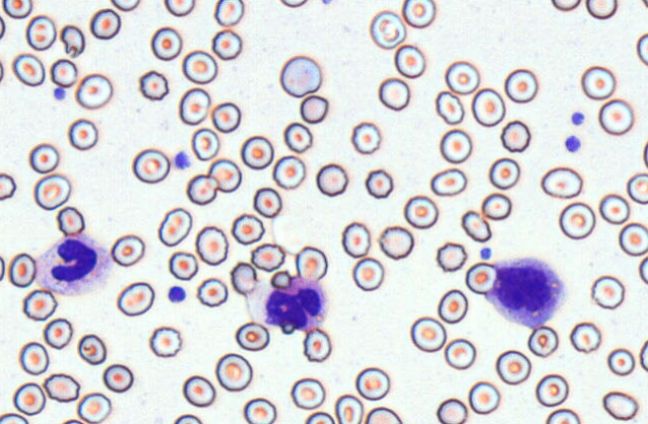GRAN: (243, 277, 330, 332), (36, 234, 114, 294)
MONO: (487, 258, 565, 331)
PLT: (173, 150, 192, 171), (167, 286, 188, 304), (563, 135, 582, 154), (569, 110, 588, 126), (53, 87, 68, 101), (478, 247, 493, 261)
RBC: (279, 54, 322, 97), (369, 9, 406, 49), (215, 352, 252, 391), (33, 173, 71, 210), (558, 201, 595, 239), (75, 73, 113, 109), (157, 207, 192, 246), (471, 87, 505, 127), (540, 166, 582, 198), (598, 98, 634, 135), (116, 281, 154, 316), (132, 148, 170, 183), (195, 225, 228, 265), (495, 349, 531, 385), (410, 316, 446, 352), (403, 194, 438, 229), (182, 49, 217, 84), (378, 225, 414, 259), (178, 87, 210, 125), (355, 366, 390, 400), (504, 68, 538, 103), (581, 65, 615, 100), (444, 60, 479, 94), (535, 373, 569, 407), (240, 135, 274, 169), (590, 275, 624, 309), (22, 288, 57, 321), (439, 128, 472, 163), (272, 154, 305, 189), (295, 245, 327, 281), (12, 382, 46, 415), (208, 158, 241, 192), (315, 162, 348, 196), (12, 52, 45, 86), (352, 256, 384, 291), (290, 377, 325, 409), (110, 234, 145, 266), (25, 14, 56, 50), (468, 380, 500, 414), (150, 26, 182, 60), (76, 392, 111, 423), (437, 288, 468, 323), (394, 43, 425, 78), (341, 221, 371, 257), (602, 390, 638, 420), (43, 373, 80, 402), (430, 167, 467, 196), (182, 375, 215, 407), (231, 213, 264, 245), (465, 261, 497, 294), (378, 77, 410, 110), (18, 341, 49, 375), (569, 321, 601, 353), (444, 338, 476, 370), (488, 157, 520, 189), (149, 326, 182, 357), (460, 209, 491, 242), (235, 321, 269, 351), (618, 222, 648, 256), (302, 327, 331, 362), (250, 242, 285, 271), (186, 174, 218, 205), (435, 241, 467, 272), (211, 28, 242, 60), (89, 8, 121, 39), (67, 118, 98, 150), (527, 325, 558, 357), (500, 119, 530, 152), (351, 121, 381, 154), (435, 90, 464, 124), (8, 252, 36, 287), (598, 193, 629, 224), (28, 142, 59, 173), (138, 69, 169, 100), (196, 277, 228, 307), (43, 317, 73, 349), (102, 363, 133, 393), (211, 101, 241, 132), (253, 186, 282, 218), (77, 333, 106, 365), (283, 121, 312, 153), (191, 127, 219, 160), (402, 0, 435, 28), (168, 250, 198, 280), (243, 397, 276, 424), (334, 394, 363, 424), (56, 205, 85, 235), (299, 93, 328, 123), (364, 168, 393, 198), (481, 192, 511, 220), (436, 397, 467, 424), (607, 347, 635, 376), (49, 58, 77, 87), (213, 0, 244, 26), (626, 172, 648, 204), (364, 406, 402, 424), (585, 0, 617, 19), (545, 408, 580, 424), (2, 0, 32, 18), (163, 0, 195, 16), (0, 172, 16, 200), (270, 269, 291, 289), (636, 32, 648, 66), (304, 411, 335, 424), (0, 412, 29, 424), (550, 0, 581, 11), (172, 413, 202, 424), (110, 0, 140, 11), (638, 254, 648, 285), (639, 338, 648, 372), (279, 0, 308, 7), (643, 137, 648, 170), (60, 418, 85, 424), (0, 254, 5, 282), (0, 14, 5, 40), (0, 56, 4, 84), (640, 0, 648, 8), (320, 0, 335, 4)
Schistocyte: (58, 25, 85, 59)
